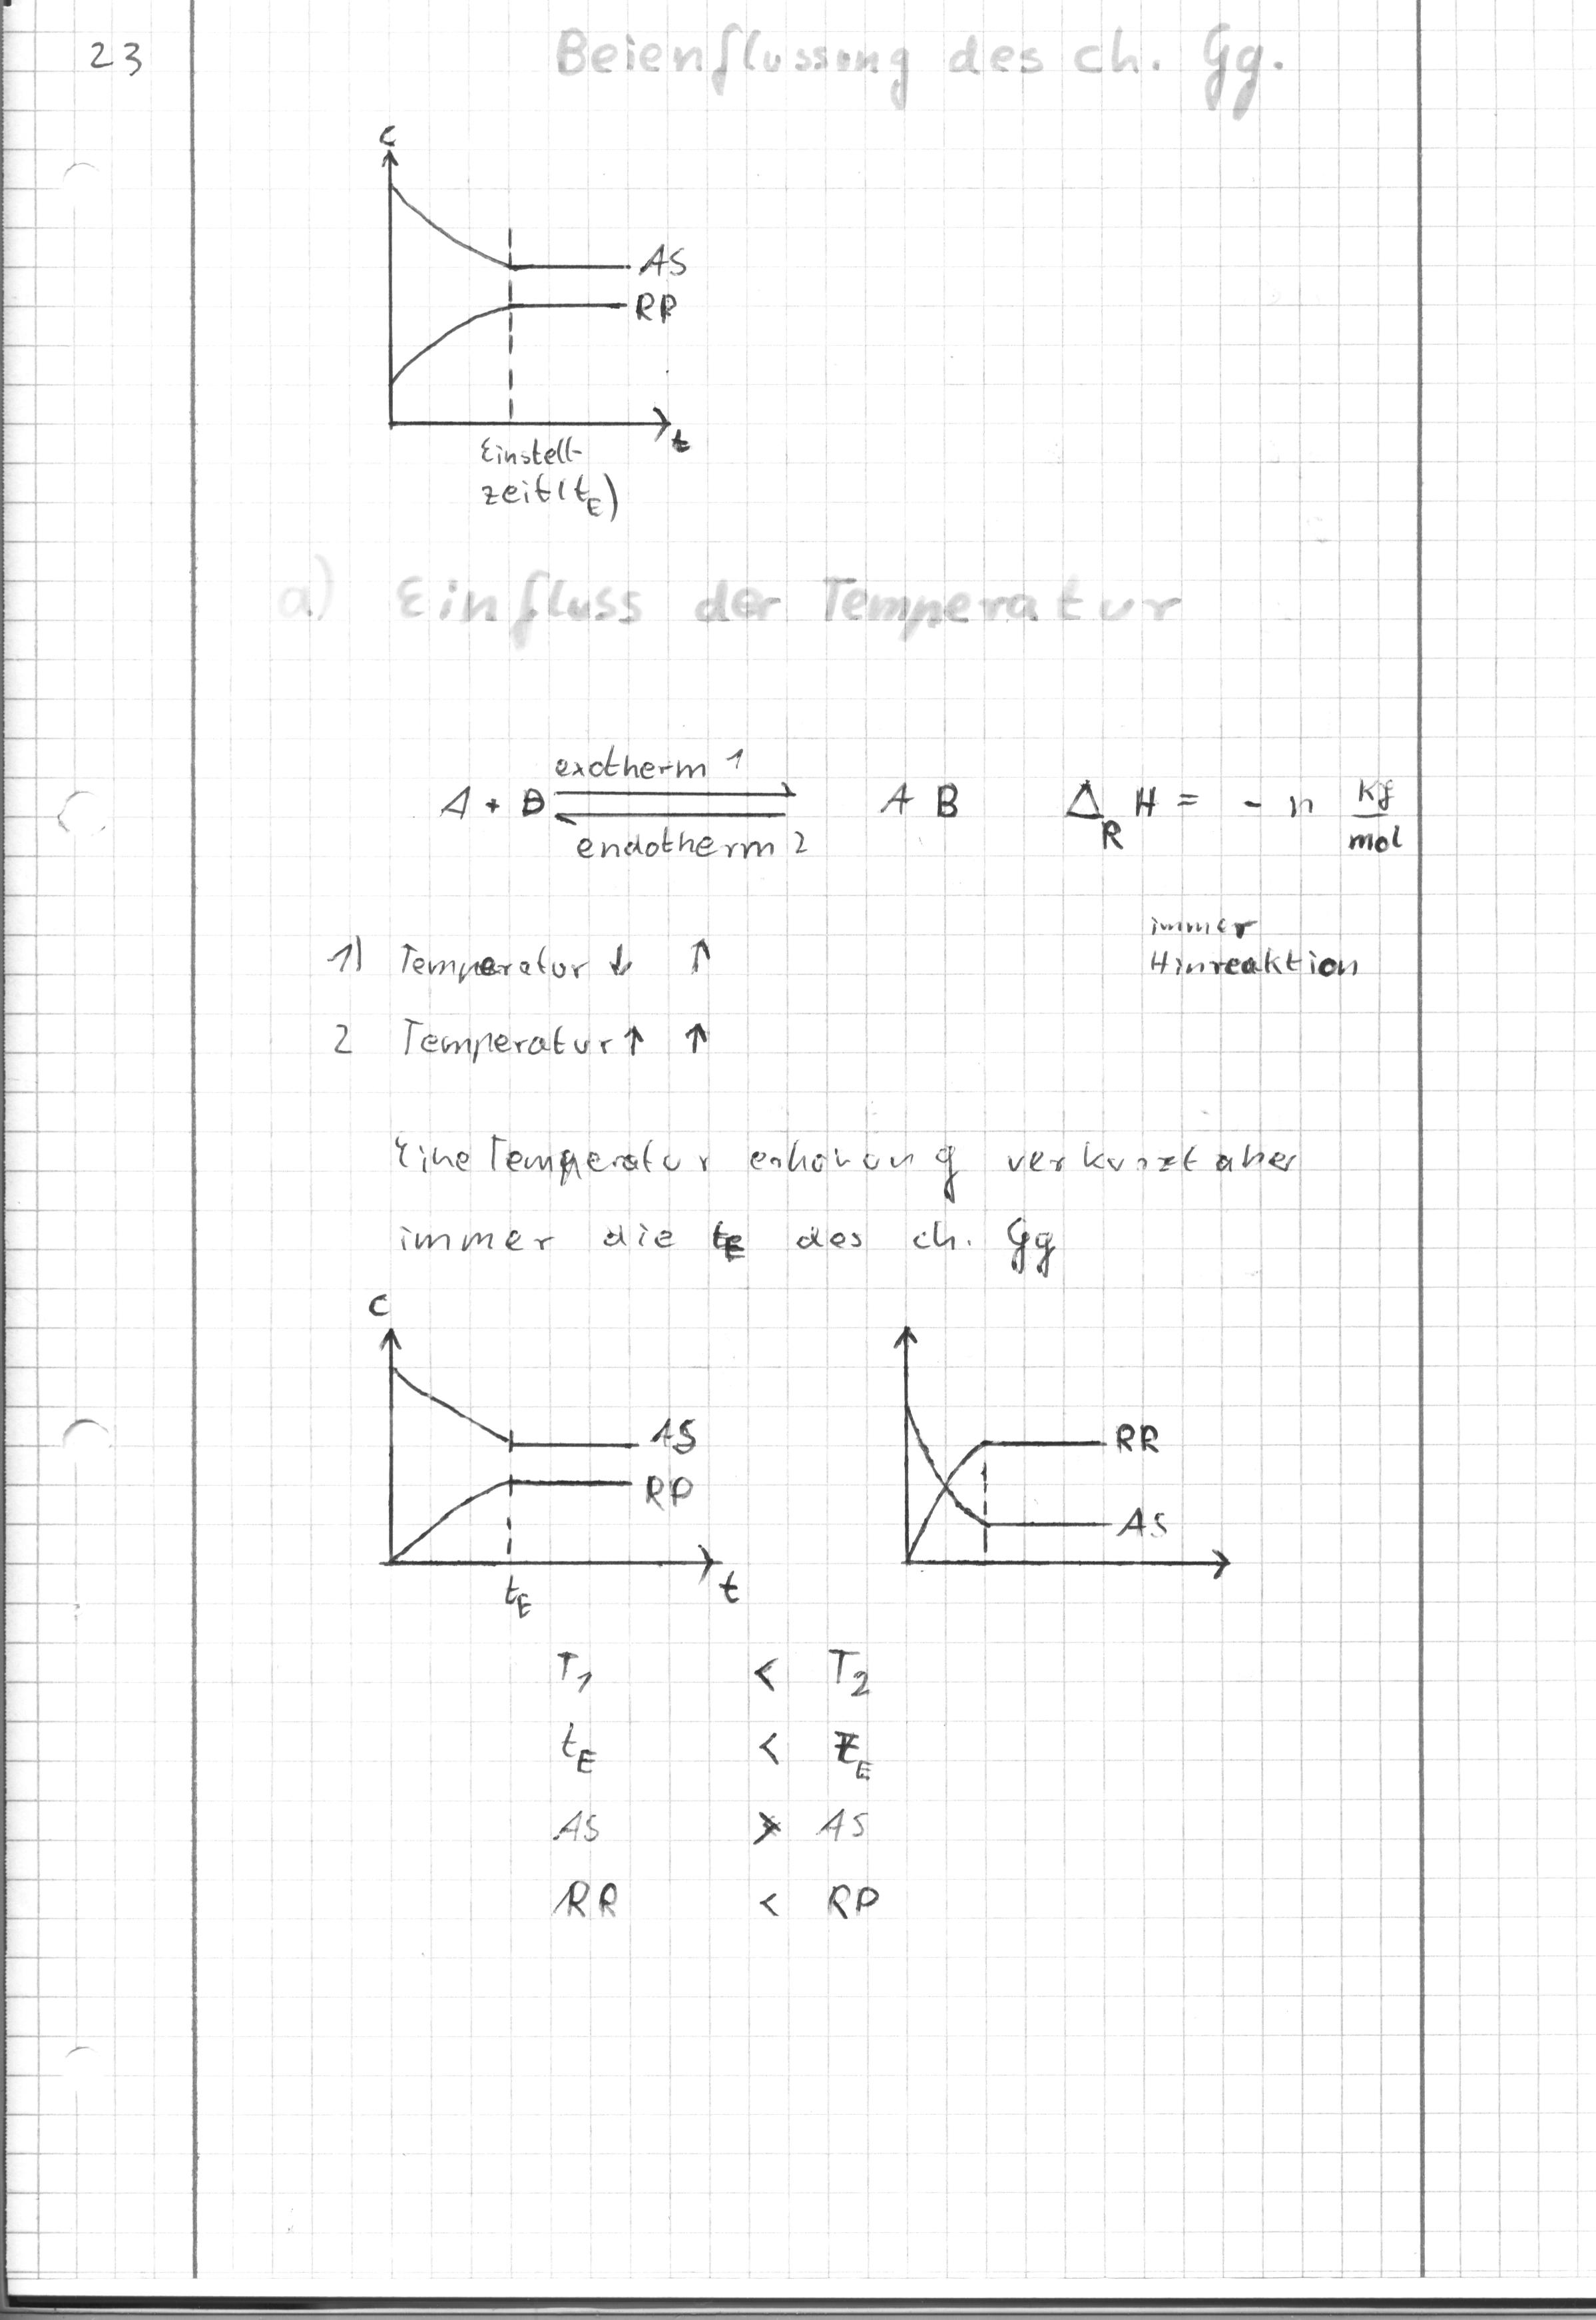word: (1060, 768, 1414, 868), (553, 1719, 876, 1782), (324, 932, 718, 984), (390, 1128, 716, 1190), (329, 1013, 712, 1061), (792, 1213, 1061, 1281), (551, 1645, 870, 1701), (748, 1135, 964, 1208), (551, 1879, 885, 1922), (1003, 1137, 1301, 1179), (550, 1807, 869, 1846), (573, 822, 814, 862), (551, 739, 746, 782), (477, 471, 628, 524), (597, 1215, 748, 1266), (1149, 946, 1360, 978), (394, 1219, 559, 1257), (477, 430, 585, 467), (1146, 912, 1261, 941)
